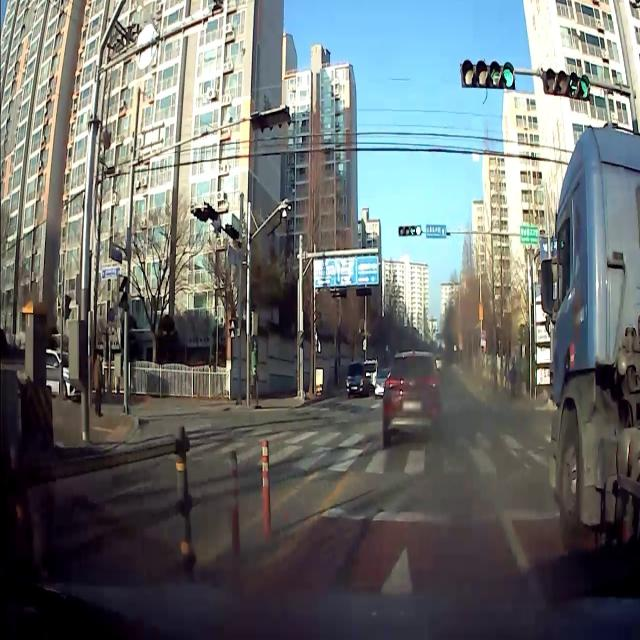Green Light: (502, 61, 516, 90), (580, 75, 590, 101), (415, 225, 421, 235)
